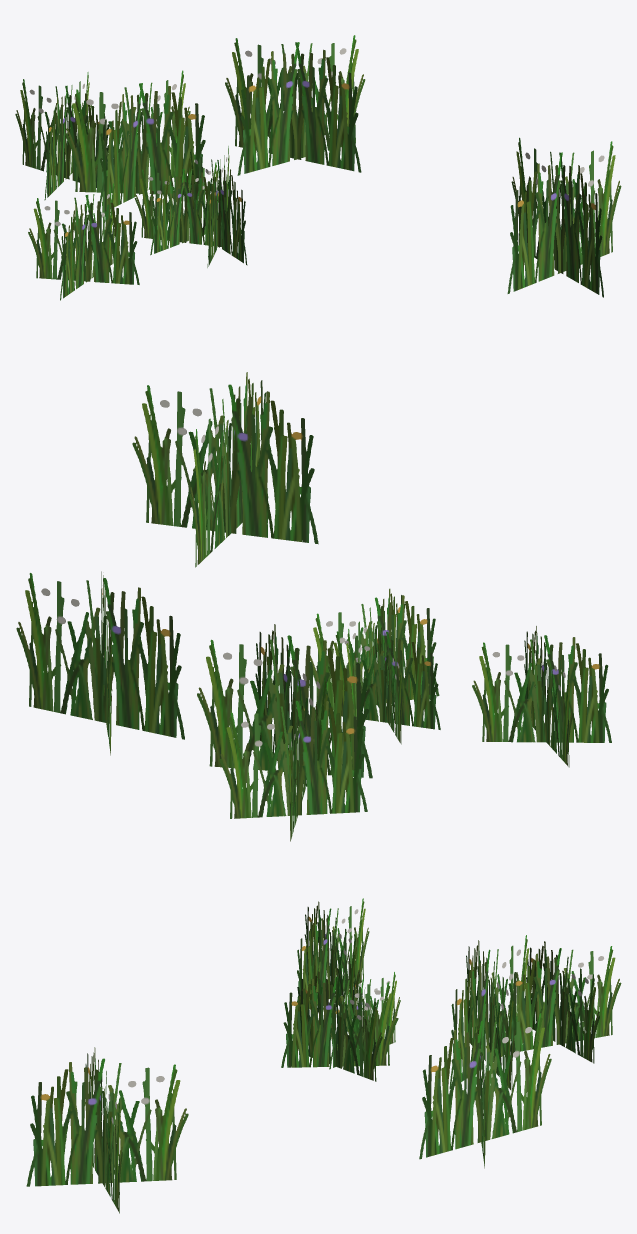
Rendered from grass_patch_a.glb.
The picture shows the model from 3 angles, top to bottom: view 1: azimuth 30°, elevation 25°; view 2: azimuth 150°, elevation 25°; view 3: azimuth 270°, elevation 25°; orthographic projection. The views are drawn at different scales.
Parts seen in each view (by area): view 1: grass; view 2: grass; view 3: grass.
Part boxes in pixels (x1,y1,x2,y2): grass: (15, 35, 621, 300); grass: (16, 372, 611, 841); grass: (26, 898, 621, 1213).
Size of the model in its own units: 2.98 by 0.7633 by 3.13.
1 material, 1 textured.
